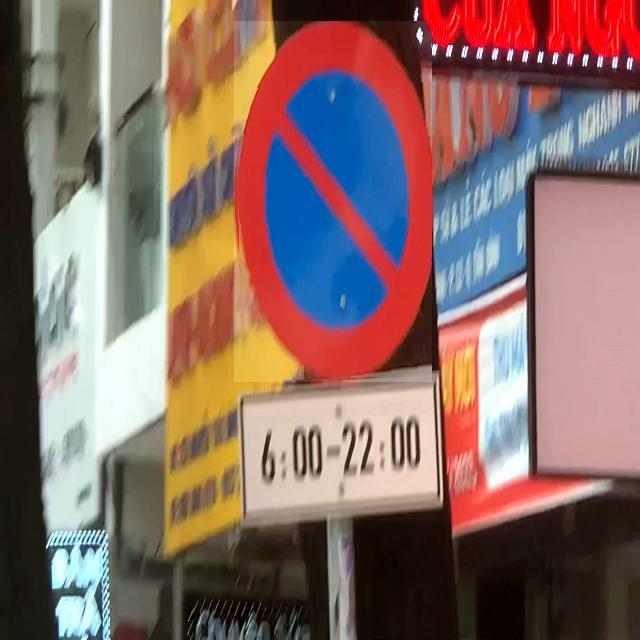P-131a: (234, 21, 432, 382)
